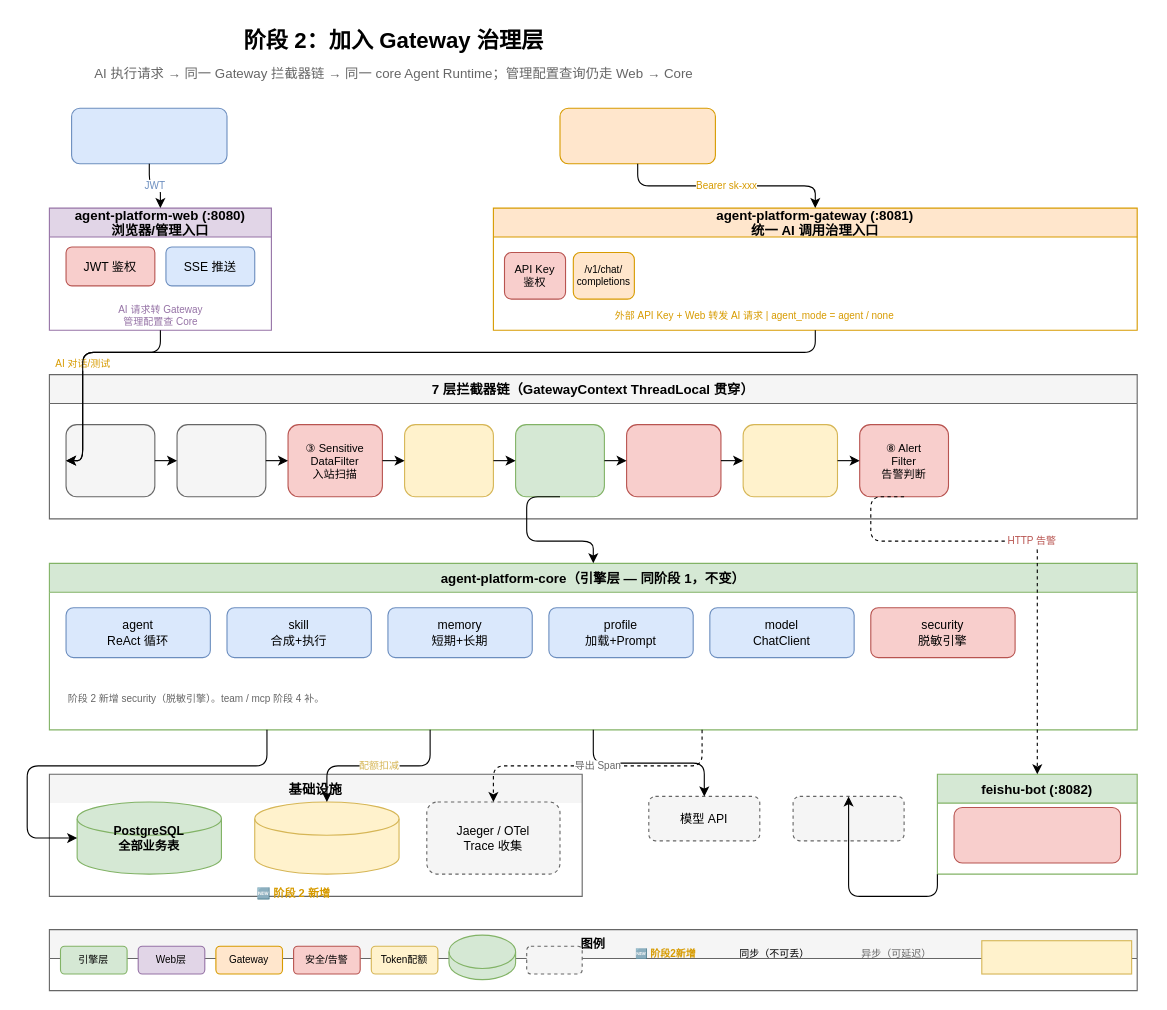
The diagram is 1167 pixels wide and 1010 high, and some of its shapes have lost their labels. Here are the shapes that lost their labels. From the top down, the centre of each, then its label:
At point 148,135: "浏览器用户 JWT 入口".
At point 637,135: "代码 / 工具 API Key 入口".
At point 110,460: "① Tenant Filter 租户识别".
At point 221,460: "② Trace Filter TraceID rootSpan".
At point 448,460: "④ Quota Filter 配额预扣".
At point 559,460: "⑤ Agent Runtime 调用引擎".
At point 673,460: "⑥ Sensitive RespFilter 出站扫描".
At point 789,460: "⑦ Token RecordFilter 结算修正".
At point 326,837: "Redis 配额缓存".
At point 848,818: "飞书 API".
At point 1037,834: "内部告警接口 POST /internal/ alerts/feishu".
At point 482,957: "数据库".
At point 554,959: "外部".
At point 1056,957: "⚠ 请求结束 finally 清理 GatewayContext".
